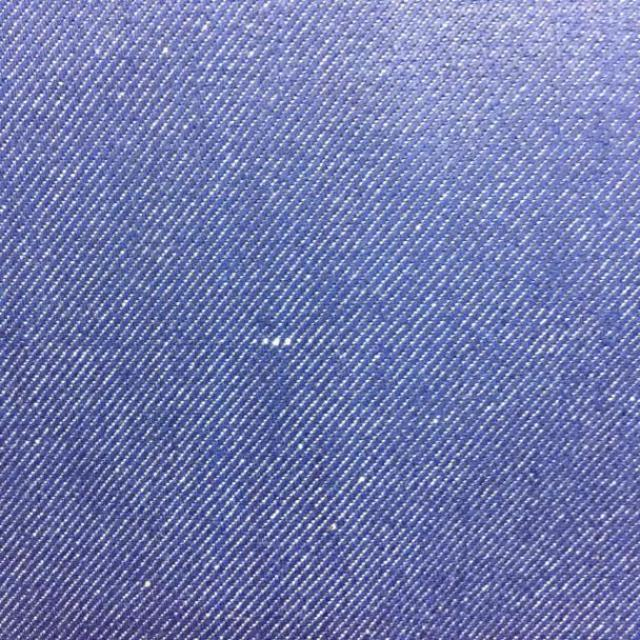Knot: (259, 337, 294, 348)
